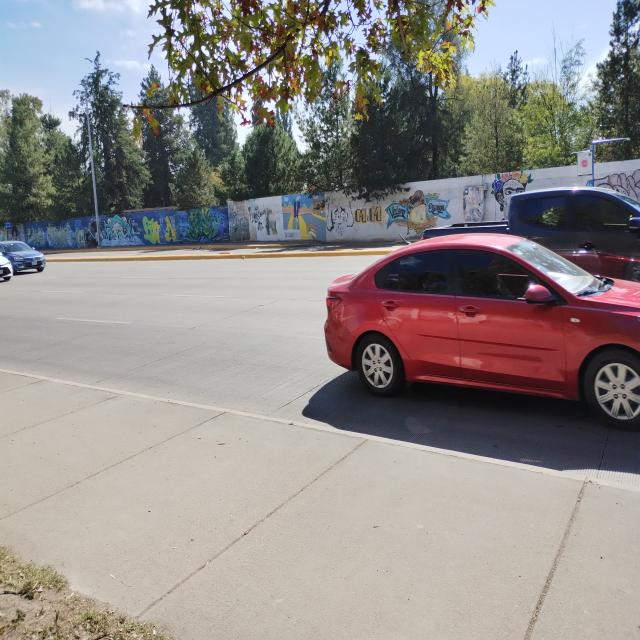Auto: (321, 223, 640, 427), (414, 183, 640, 275), (0, 238, 49, 282)
